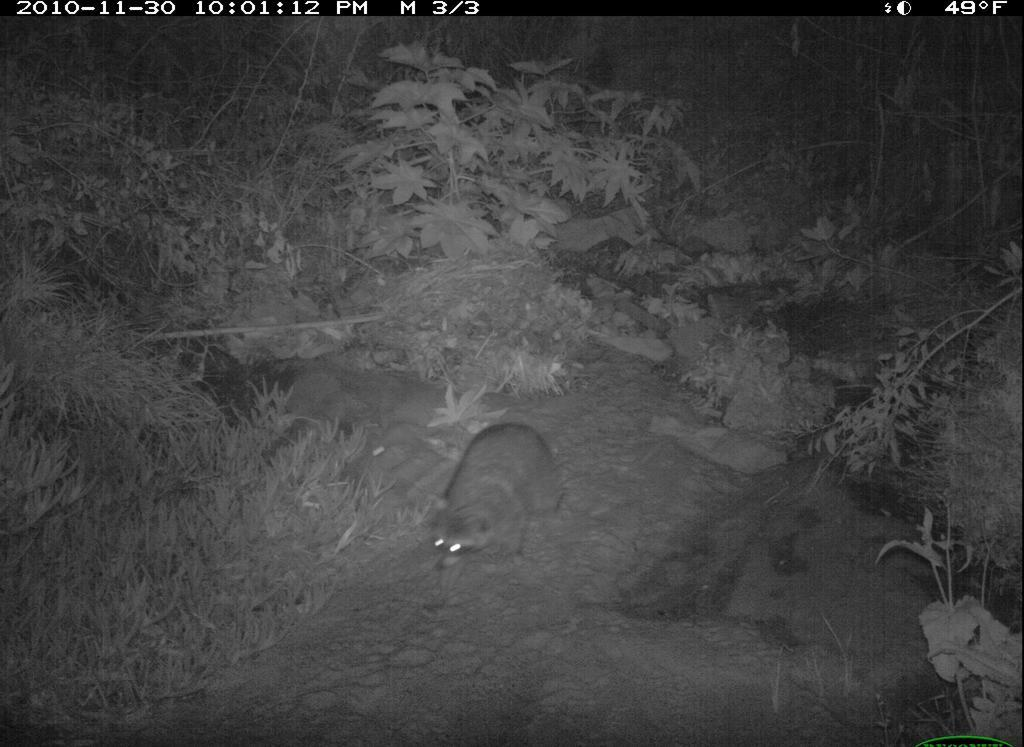raccoon: (423, 418, 574, 580)
